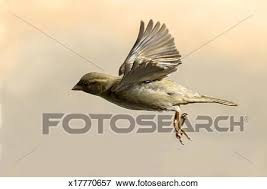hsparrow: (68, 18, 243, 144)
